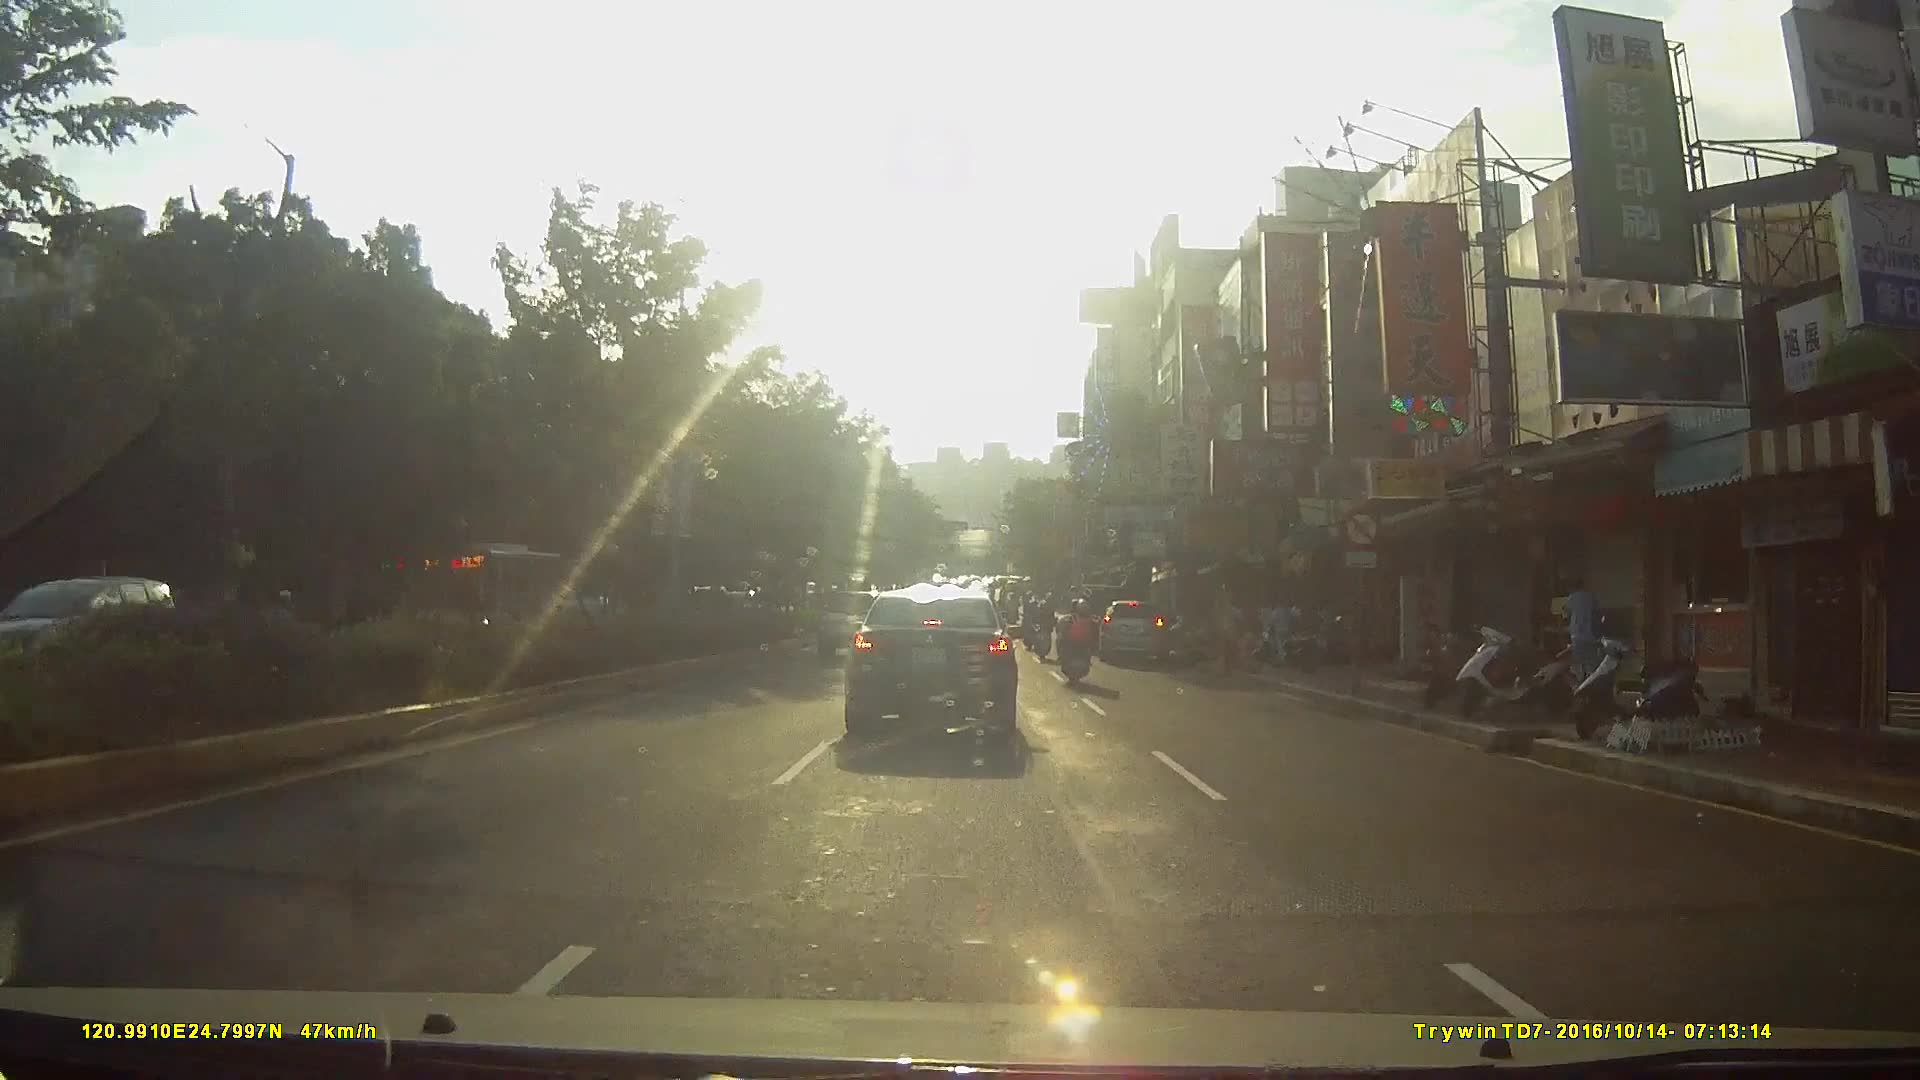pedestrian: (1550, 578, 1597, 694)
rider: (1057, 610, 1102, 706), (1026, 593, 1057, 664)
vehicle: (839, 590, 1033, 758), (1094, 598, 1179, 676)
